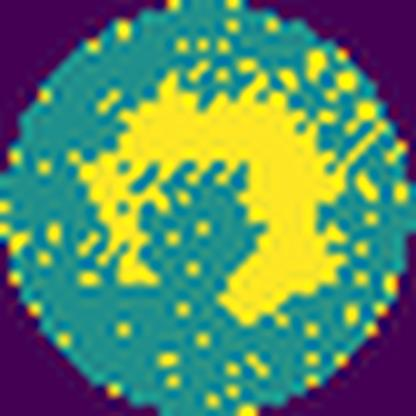Donut: (68, 59, 356, 329)
